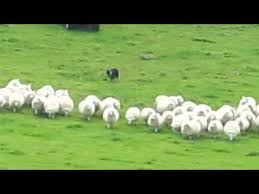sheep: (77, 99, 97, 121), (181, 119, 201, 140), (102, 106, 120, 129), (224, 118, 240, 141), (44, 95, 59, 119), (60, 95, 76, 117), (124, 106, 141, 126), (207, 117, 223, 138), (8, 93, 25, 112), (147, 112, 163, 131), (31, 94, 45, 115), (155, 99, 176, 113), (105, 67, 120, 82), (162, 110, 175, 127)
